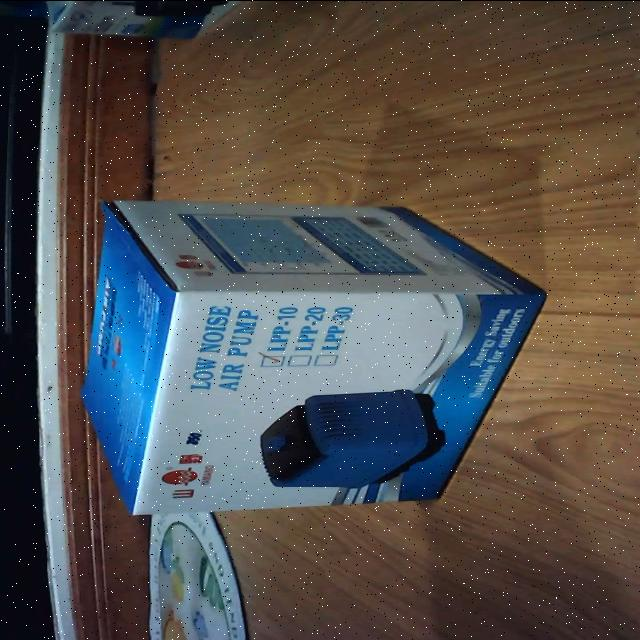YAMANO_LPP_20: (64, 194, 552, 518)
